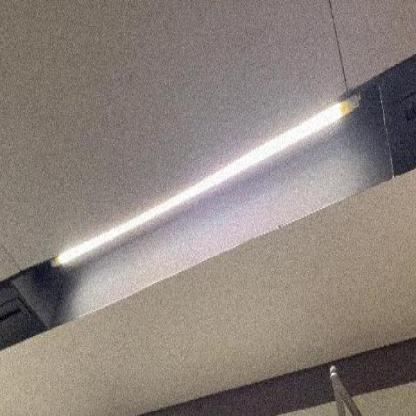light_on: (44, 88, 368, 280)
